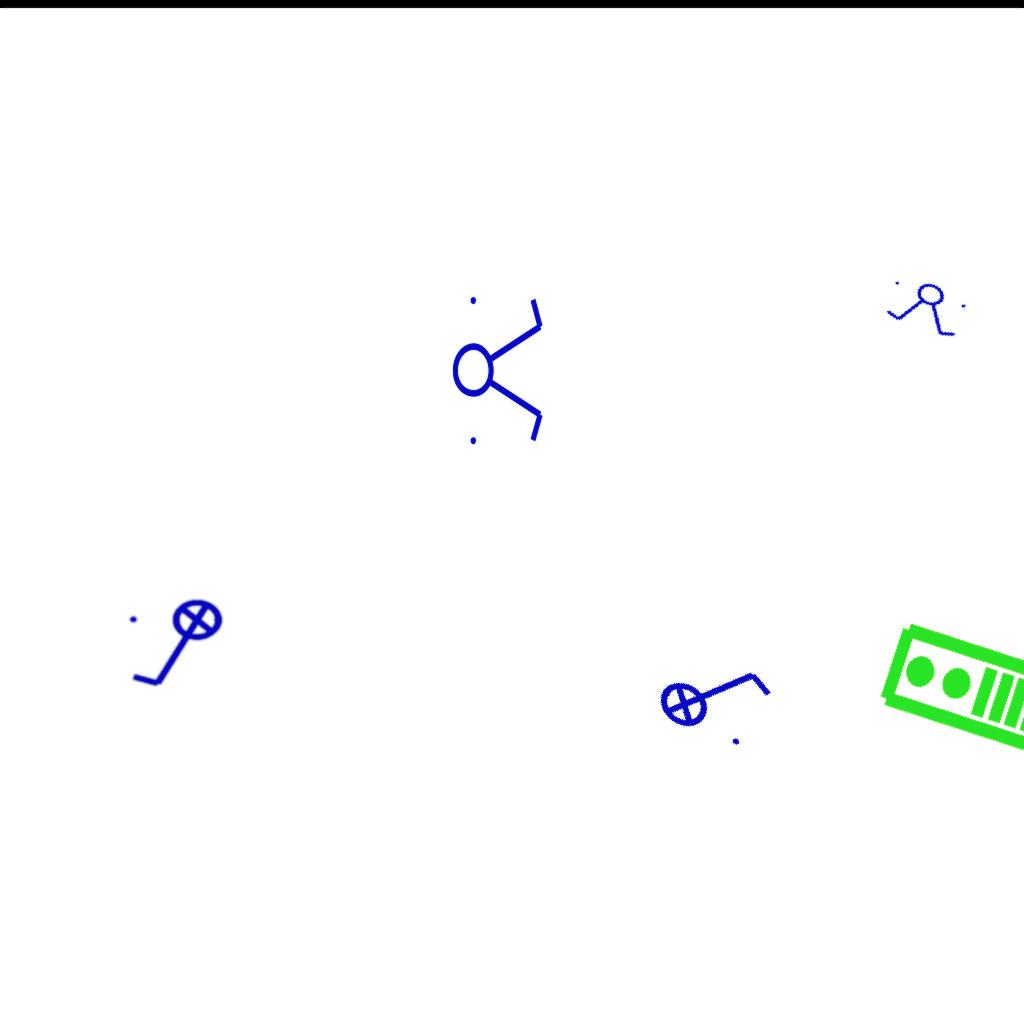Ausschalter_beleuchtet: (639, 621, 787, 765), (124, 598, 236, 694)
Gegensprechanlage_mit_Video: (873, 617, 1024, 763)
Serienschalter: (451, 285, 547, 453), (879, 270, 975, 344)
